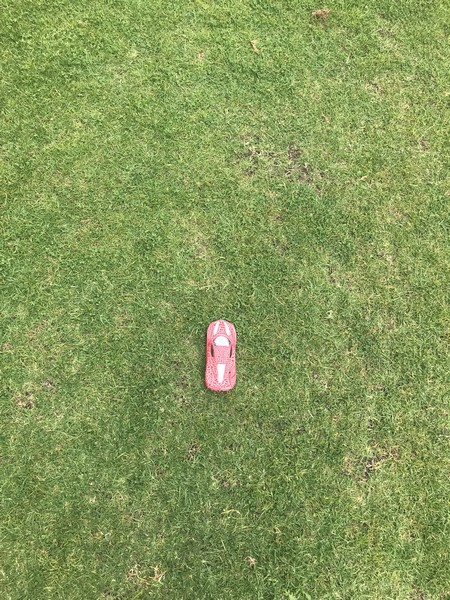RC: (203, 318, 240, 393)
